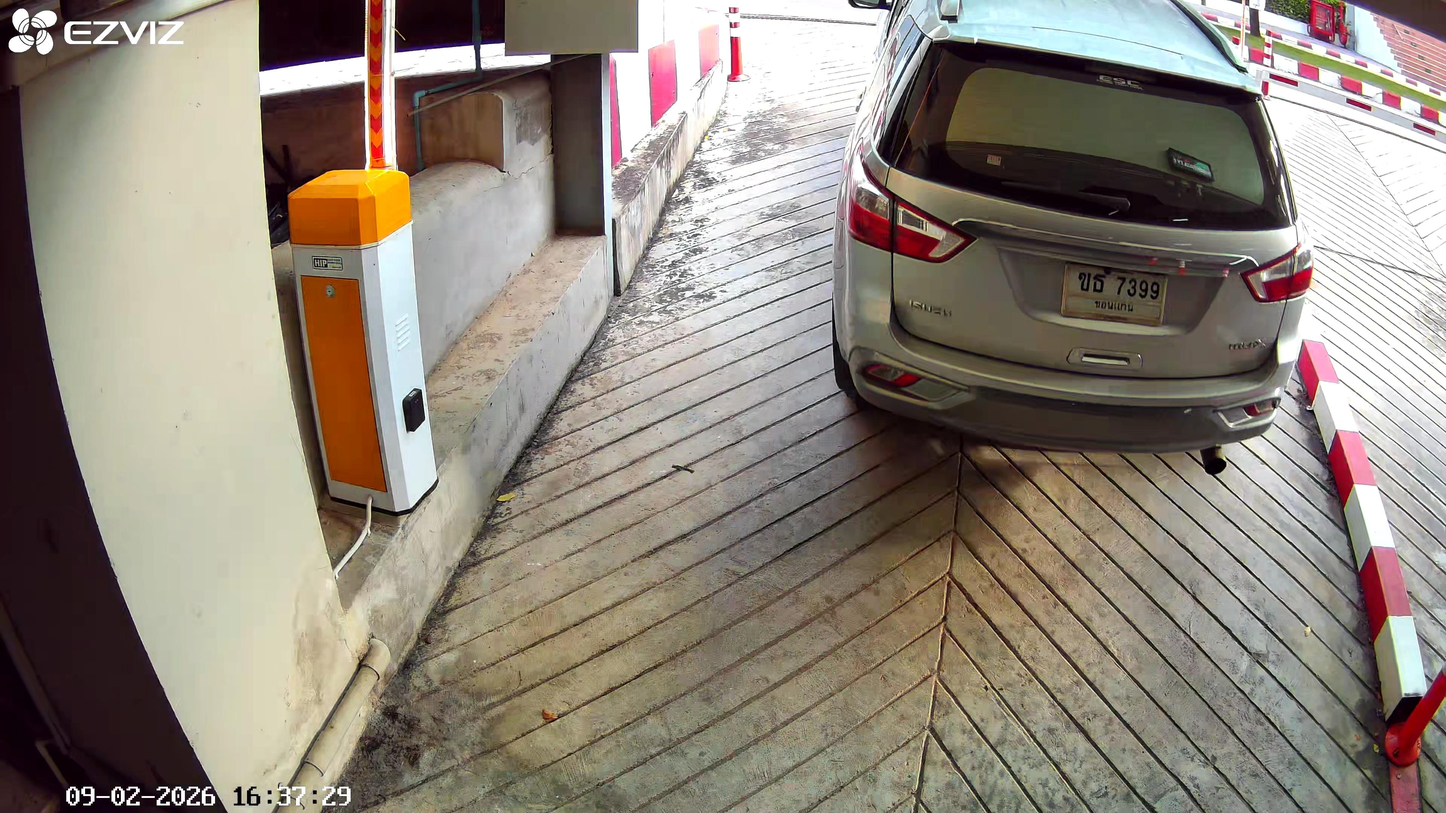car: (827, 3, 1310, 444)
license-plate: (1056, 258, 1170, 326)
